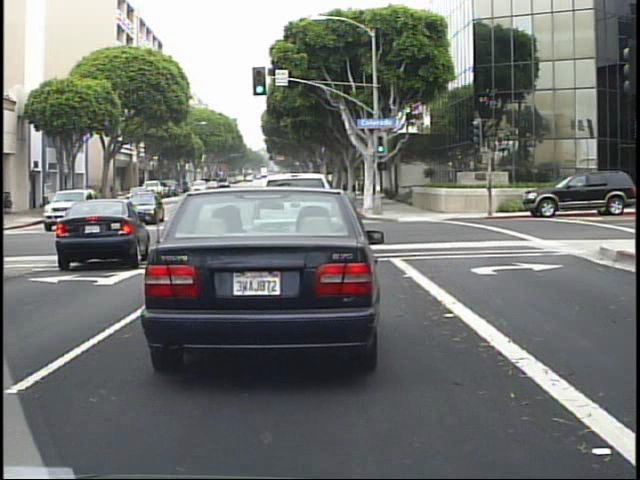person: (80, 183, 96, 217)
